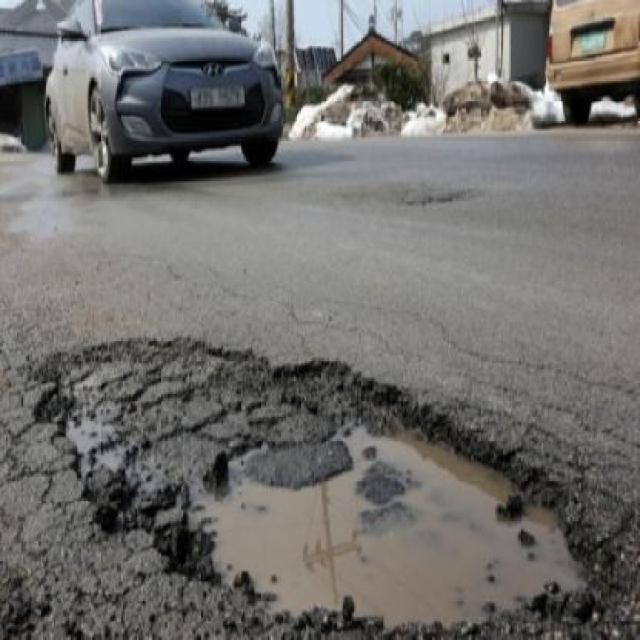Buraco: (22, 335, 630, 638)
